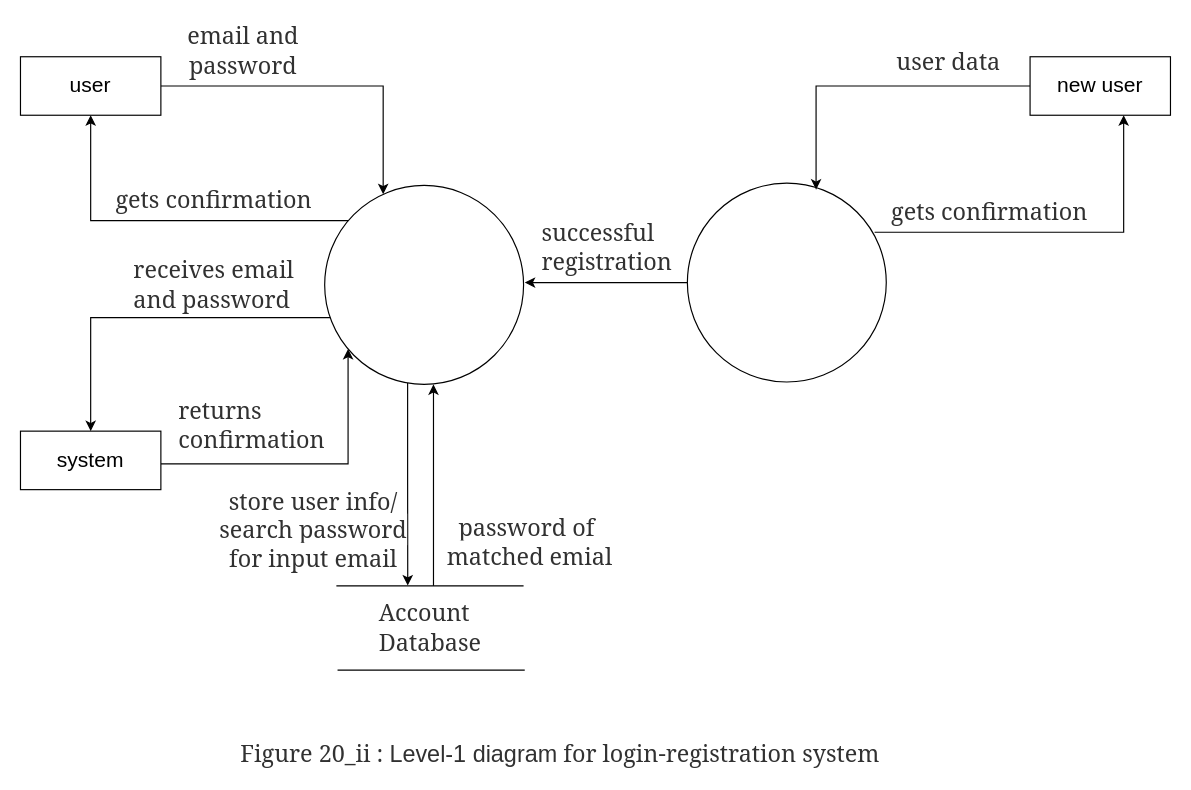
Some shapes in this 1191 by 790 pixel diagram are drawn without their labels. Each missing label, with the centre of its shape:
1.1 Handling Log in: [424,284]
1.2 Handling Registration: [786,282]
